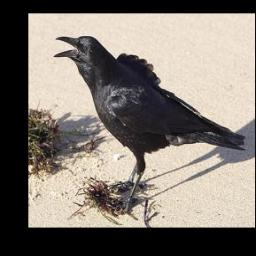Crow: (53, 34, 247, 218)
